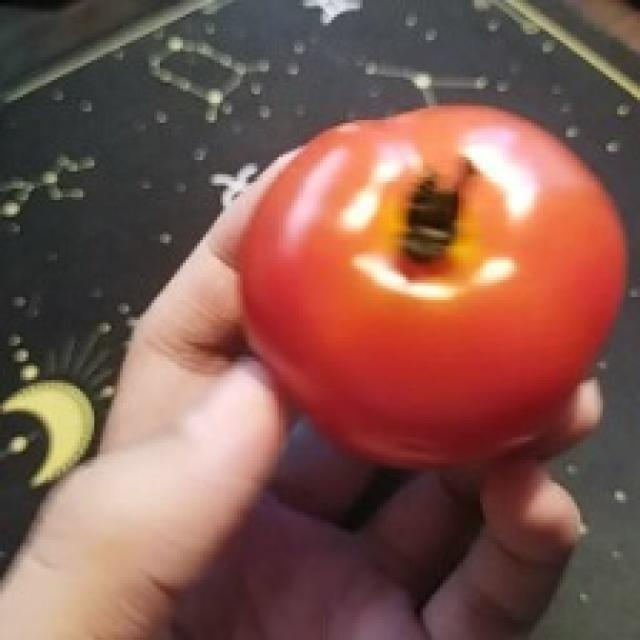Fresh Tomato: (191, 81, 640, 474)
